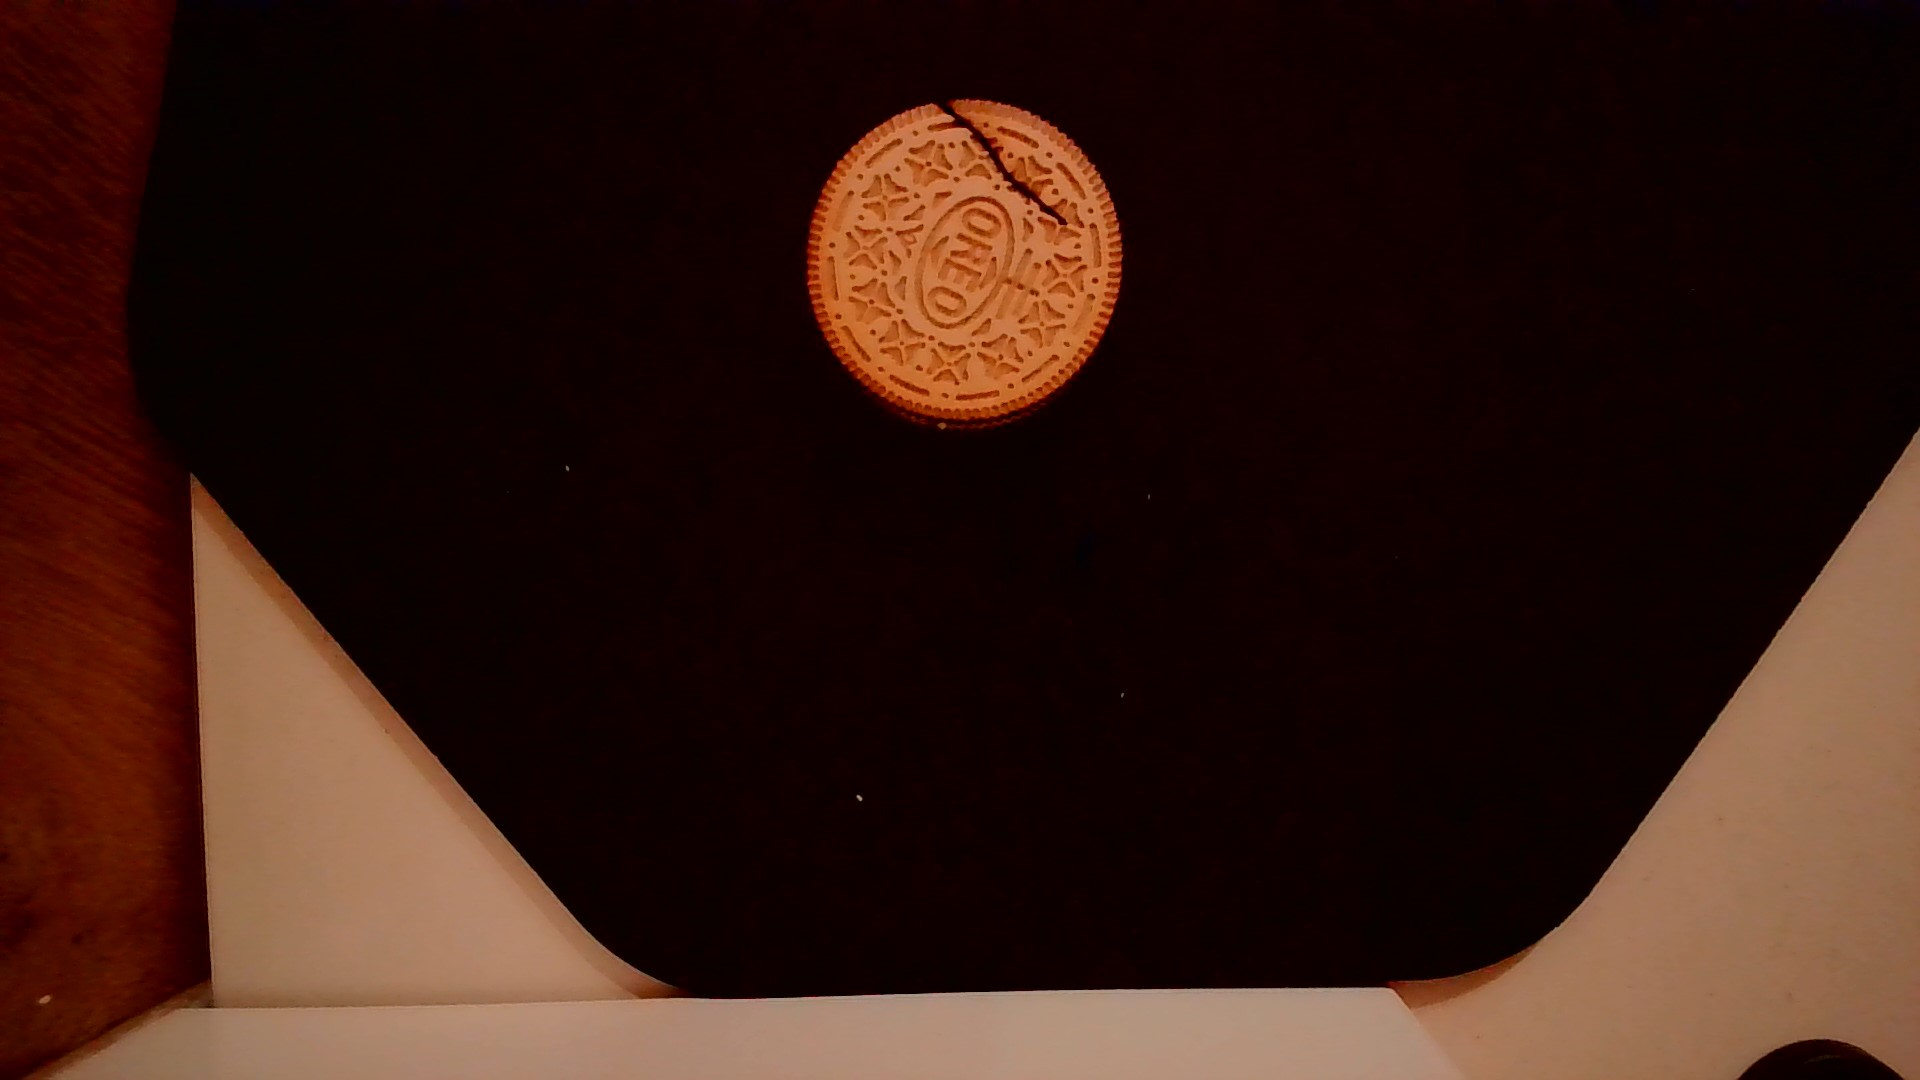Fissure: (913, 94, 1073, 233)
Oréo: (794, 94, 1134, 438)
